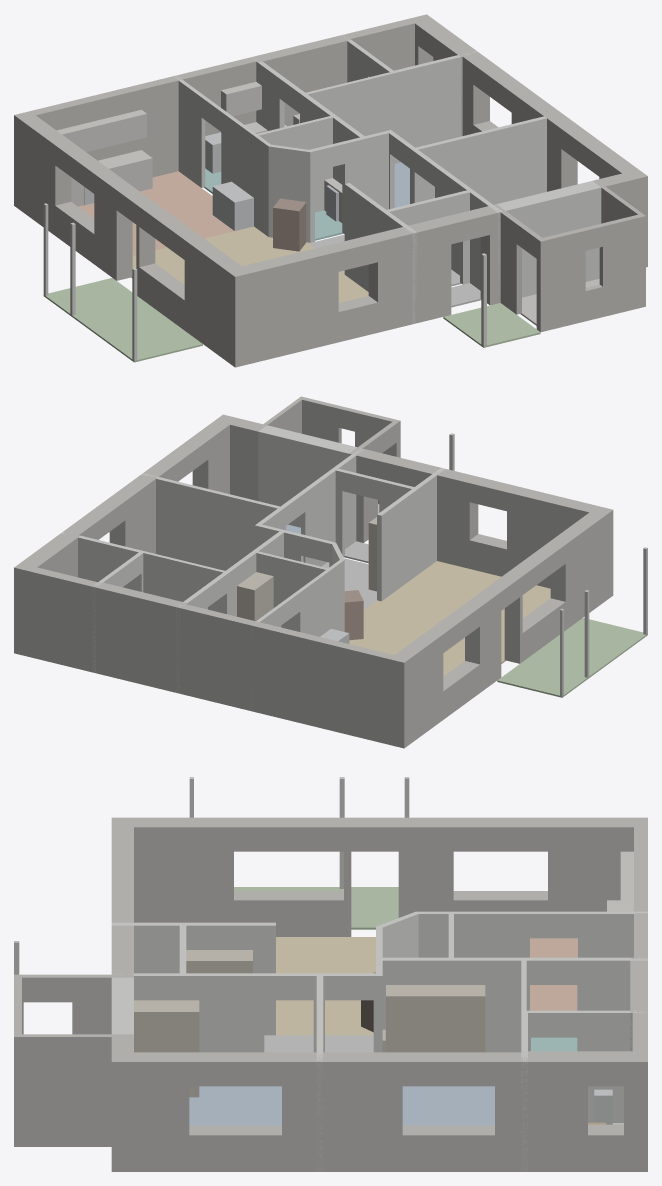
Rendered from PROP_1019.glb.
The picture shows the model from 3 angles, top to bottom: view 1: azimuth 30°, elevation 25°; view 2: azimuth 150°, elevation 25°; view 3: azimuth 270°, elevation 25°; orthographic projection. The views are drawn at different scales.
Visible parts, largest first — view 1: L0_wall_F0_W22, L0_wall_F0_W5, L0_wall_F0_W20, L0_wall_F0_W0, L0_wall_F0_W4, L0_wall_F0_W13, L0_wall_F0_W10, L0_floor_F0_R1_0, L0_wall_F0_W16, L0_wall_F0_W24, L0_wall_F0_W8, L0_wall_F0_W18 (+31 smaller); view 2: L0_wall_F0_W0, L0_wall_F0_W5, L0_wall_F0_W22, L0_wall_F0_W1, L0_floor_F0_R3_0, L0_wall_F0_W13, L0_wall_F0_W4, L0_wall_F0_W2, L0_wall_F0_W14, L0_floor_F0_R1_0, L0_wall_F0_W24, L0_wall_F0_W8 (+18 smaller); view 3: L0_wall_F0_W4, L0_wall_F0_W5, L0_wall_F0_W3, L0_wall_F0_W6, L0_wall_F0_W19, L0_wall_F0_W8, L0_wall_F0_W10, L0_floor_F0_R3_0, L0_wall_F0_W14, L0_wall_F0_W17, L0_wall_F0_W21, L0_floor_F0_R5_0 (+23 smaller).
Boxes of the visible parts, x1,y1,x2,y2 form: L0_wall_F0_W22: [235, 204, 500, 367]; L0_wall_F0_W5: [14, 115, 241, 367]; L0_wall_F0_W20: [540, 214, 645, 332]; L0_wall_F0_W0: [15, 57, 256, 177]; L0_wall_F0_W4: [462, 52, 647, 191]; L0_wall_F0_W13: [411, 116, 546, 204]; L0_wall_F0_W10: [173, 75, 270, 236]; L0_floor_F0_R1_0: [43, 278, 202, 362]; L0_wall_F0_W16: [392, 51, 477, 163]; L0_wall_F0_W24: [497, 181, 601, 297]; L0_wall_F0_W8: [389, 130, 502, 302]; L0_wall_F0_W18: [301, 72, 396, 163]; L0_wall_F0_W0: [180, 604, 404, 748]; L0_wall_F0_W5: [395, 510, 613, 748]; L0_wall_F0_W22: [349, 448, 612, 588]; L0_wall_F0_W1: [92, 582, 187, 693]; L0_floor_F0_R3_0: [349, 561, 550, 676]; L0_wall_F0_W13: [141, 473, 284, 570]; L0_wall_F0_W4: [63, 415, 229, 553]; L0_wall_F0_W2: [14, 567, 97, 672]; L0_wall_F0_W14: [377, 467, 445, 601]; L0_floor_F0_R1_0: [497, 618, 647, 697]; L0_wall_F0_W24: [258, 425, 356, 527]; L0_wall_F0_W8: [255, 448, 362, 566]; L0_wall_F0_W4: [111, 1052, 521, 1171]; L0_wall_F0_W5: [112, 817, 647, 936]; L0_wall_F0_W3: [521, 1051, 647, 1171]; L0_wall_F0_W6: [376, 957, 647, 1052]; L0_wall_F0_W19: [14, 1034, 132, 1146]; L0_wall_F0_W8: [112, 973, 382, 1052]; L0_wall_F0_W10: [416, 911, 647, 1010]; L0_floor_F0_R3_0: [276, 937, 375, 1035]; L0_wall_F0_W14: [111, 922, 275, 1035]; L0_wall_F0_W17: [522, 1010, 647, 1122]; L0_wall_F0_W21: [14, 974, 131, 1034]; L0_floor_F0_R5_0: [402, 1086, 494, 1125].
Bounding box in the file's own units: 15.01 × 2.75 × 14.11.
